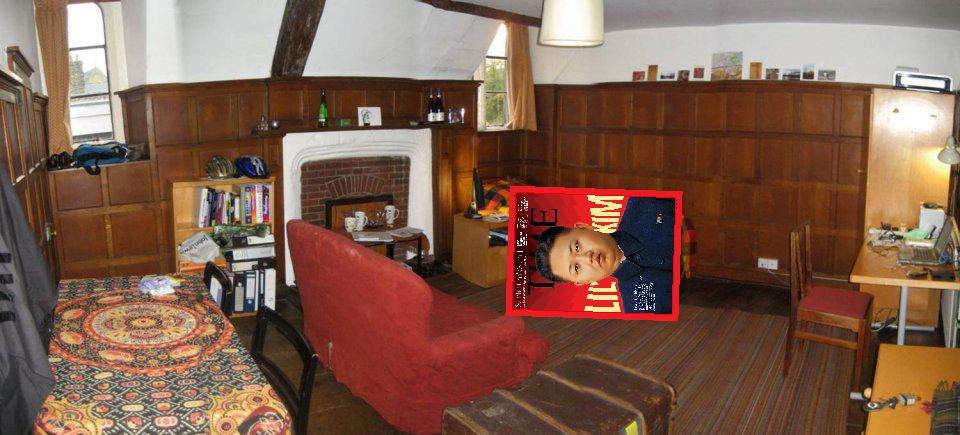times: (502, 185, 683, 319)
